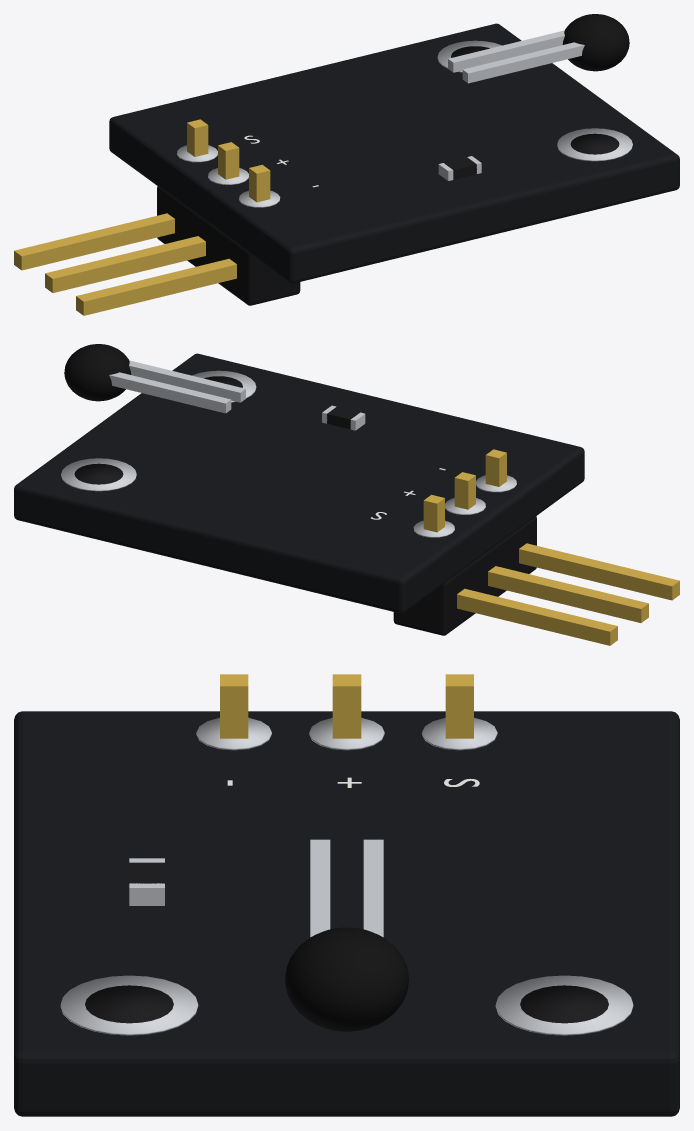
The model's file is analog-temperature-sensor.glb.
3 views of the same model, one above another, from view 1: azimuth 30°, elevation 25°; view 2: azimuth 150°, elevation 25°; view 3: azimuth 270°, elevation 25° (orthographic). The views are drawn at different scales.
Visible parts, largest first — view 1: pcb.004, header.004, pin_h.012, pin_h.013, pin_h.014, part.007, part.005, part.006, hole_ring.009, hole.009, pin_v.012, pin_v.013 (+3 smaller); view 2: pcb.004, header.004, pin_h.012, pin_h.013, pin_h.014, part.007, part.006, part.005, hole_ring.008, hole.008, pin_v.014, pin_v.013 (+3 smaller); view 3: pcb.004, part.007, hole_ring.008, hole_ring.009, hole.008, hole.009, part.005, part.006, pin_v.013, pin_v.012, pin_v.014, pad.013 (+4 smaller).
Part boxes in pixels (bbox=[...]): pcb.004: bbox=[109, 23, 679, 283]; header.004: bbox=[157, 186, 300, 305]; pin_h.012: bbox=[14, 213, 174, 270]; pin_h.013: bbox=[45, 236, 205, 292]; pin_h.014: bbox=[76, 258, 236, 315]; part.007: bbox=[562, 14, 629, 71]; part.005: bbox=[462, 42, 584, 83]; part.006: bbox=[448, 30, 564, 72]; hole_ring.009: bbox=[557, 128, 632, 161]; hole.009: bbox=[570, 133, 619, 154]; pin_v.012: bbox=[187, 119, 208, 156]; pin_v.013: bbox=[218, 142, 239, 179]; pcb.004: bbox=[14, 353, 584, 613]; header.004: bbox=[393, 516, 536, 635]; pin_h.012: bbox=[457, 588, 617, 645]; pin_h.013: bbox=[488, 566, 648, 622]; pin_h.014: bbox=[519, 543, 679, 600]; part.007: bbox=[64, 344, 131, 401]; part.006: bbox=[109, 372, 231, 413]; part.005: bbox=[129, 360, 245, 402]; hole_ring.008: bbox=[61, 458, 136, 491]; hole.008: bbox=[74, 463, 123, 484]; pin_v.014: bbox=[485, 449, 506, 486]; pin_v.013: bbox=[454, 472, 475, 509]; pcb.004: bbox=[14, 711, 679, 1116]; part.007: bbox=[285, 927, 408, 1031]; hole_ring.008: bbox=[495, 975, 633, 1035]; hole_ring.009: bbox=[60, 975, 198, 1035]; hole.008: bbox=[520, 985, 608, 1023]; hole.009: bbox=[85, 985, 173, 1023]; part.005: bbox=[310, 839, 330, 937]; part.006: bbox=[363, 839, 383, 937]; pin_v.013: bbox=[332, 674, 361, 738]; pin_v.012: bbox=[445, 674, 473, 738]; pin_v.014: bbox=[220, 674, 248, 738]; pad.013: bbox=[309, 718, 384, 750].
Size of the model in its own units: 0.0273 by 0.00722 by 0.015.
